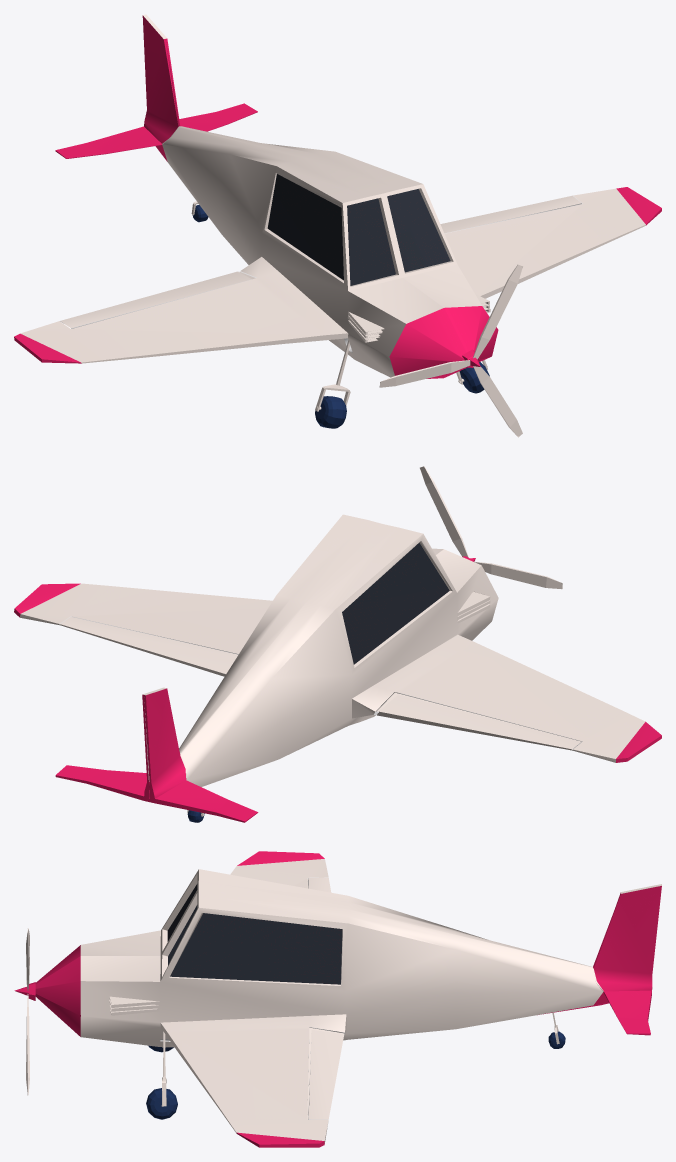
The model's file is cartoon_plane-transformed.glb.
3 views of the same model, one above another, from view 1: azimuth 30°, elevation 25°; view 2: azimuth 150°, elevation 25°; view 3: azimuth 270°, elevation 25° (orthographic). The views are drawn at different scales.
Parts seen in each view (by area): view 1: Cylinder_1_Body_0, Propeller_1; view 2: Cylinder_1_Body_0, Propeller_1; view 3: Cylinder_1_Body_0, Propeller_1.
Part boxes in pixels (x1,y1,x2,y2): Cylinder_1_Body_0: [14, 14, 661, 428]; Propeller_1: [379, 264, 522, 437]; Cylinder_1_Body_0: [14, 514, 661, 822]; Propeller_1: [419, 466, 562, 589]; Cylinder_1_Body_0: [35, 851, 661, 1147]; Propeller_1: [14, 928, 35, 1095].
Size of the model in its own units: 2.1 by 0.6667 by 1.96.
1 material, 1 textured.
